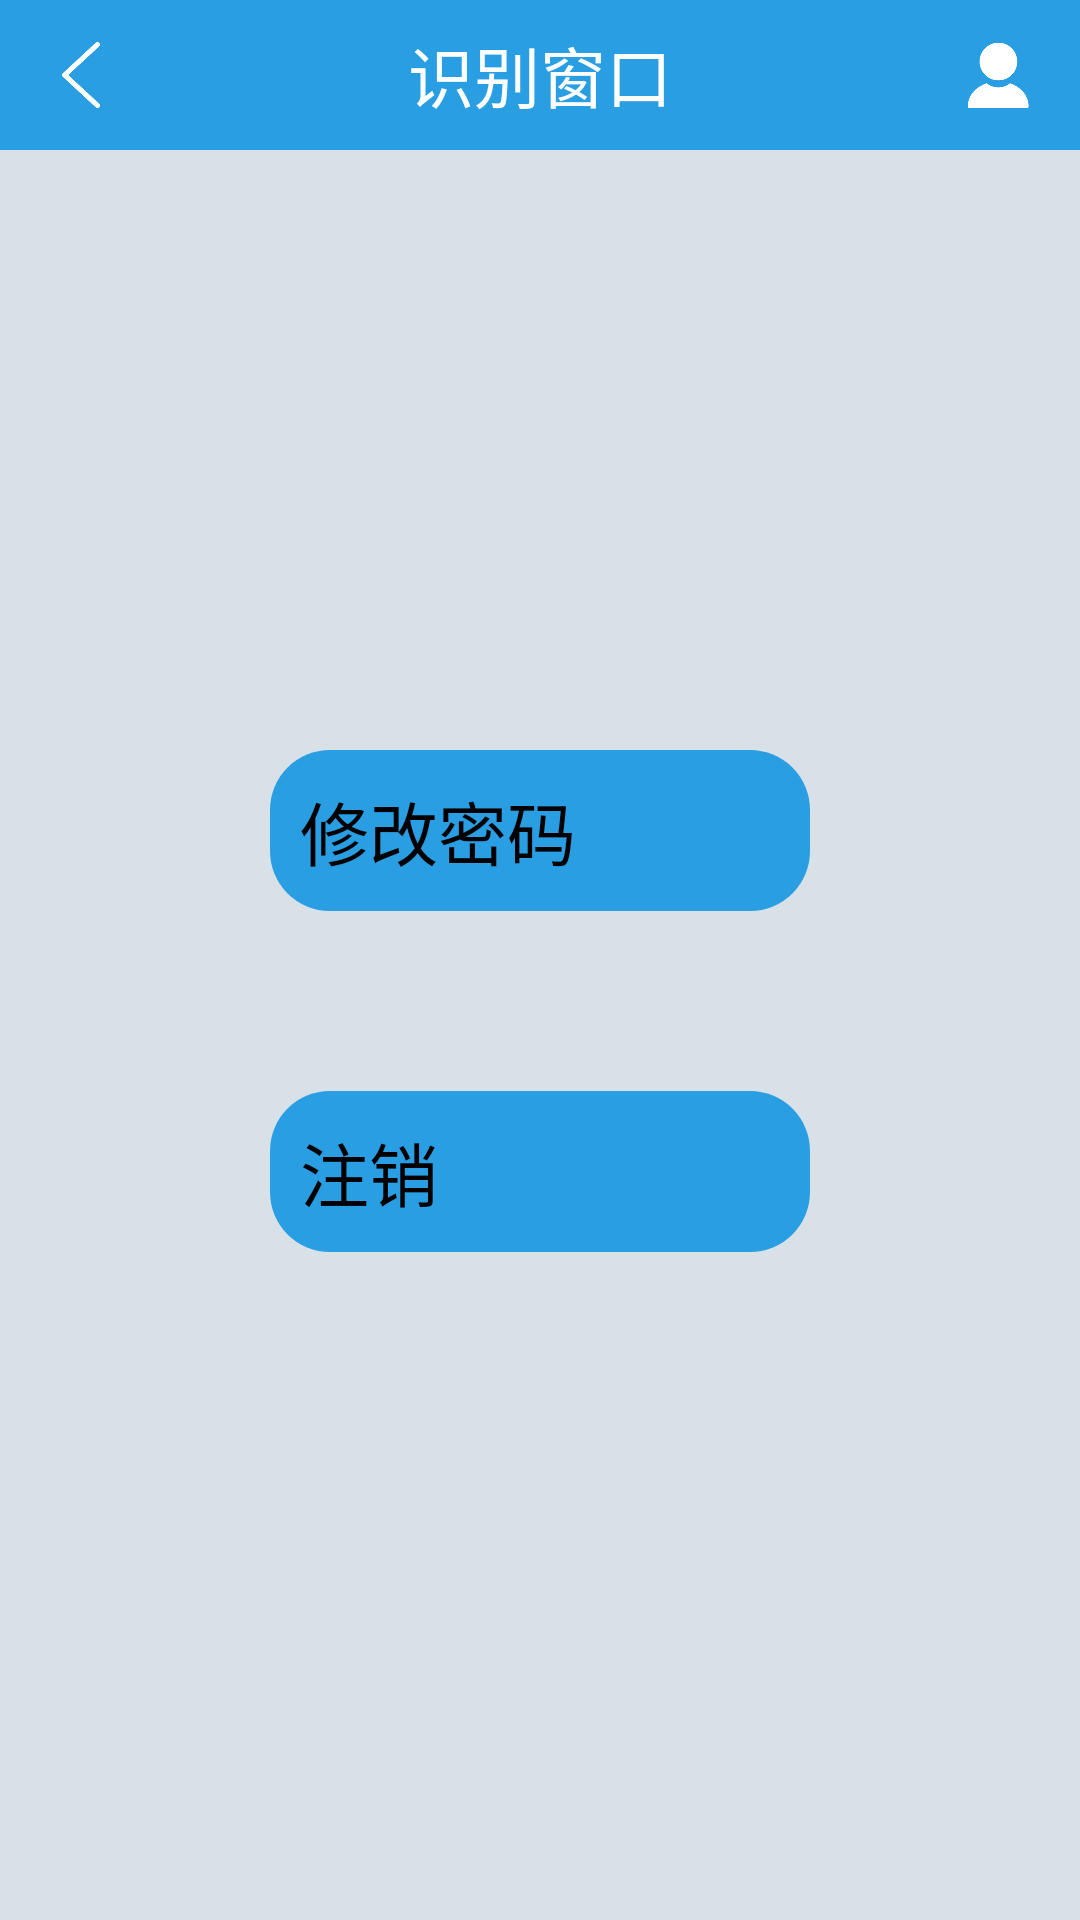

Icon click points for this 1080w x 1920h phone screenshot, format [x,y]:
back: [81,75]
login: [998,75]
